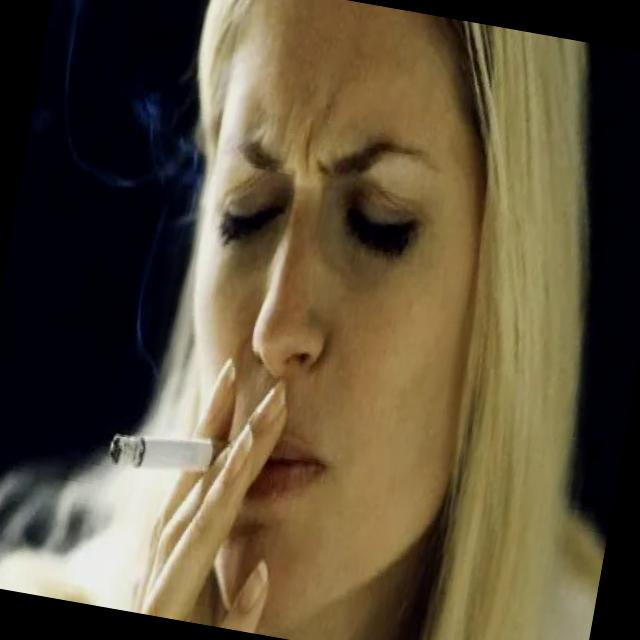smoke: (103, 416, 240, 487)
